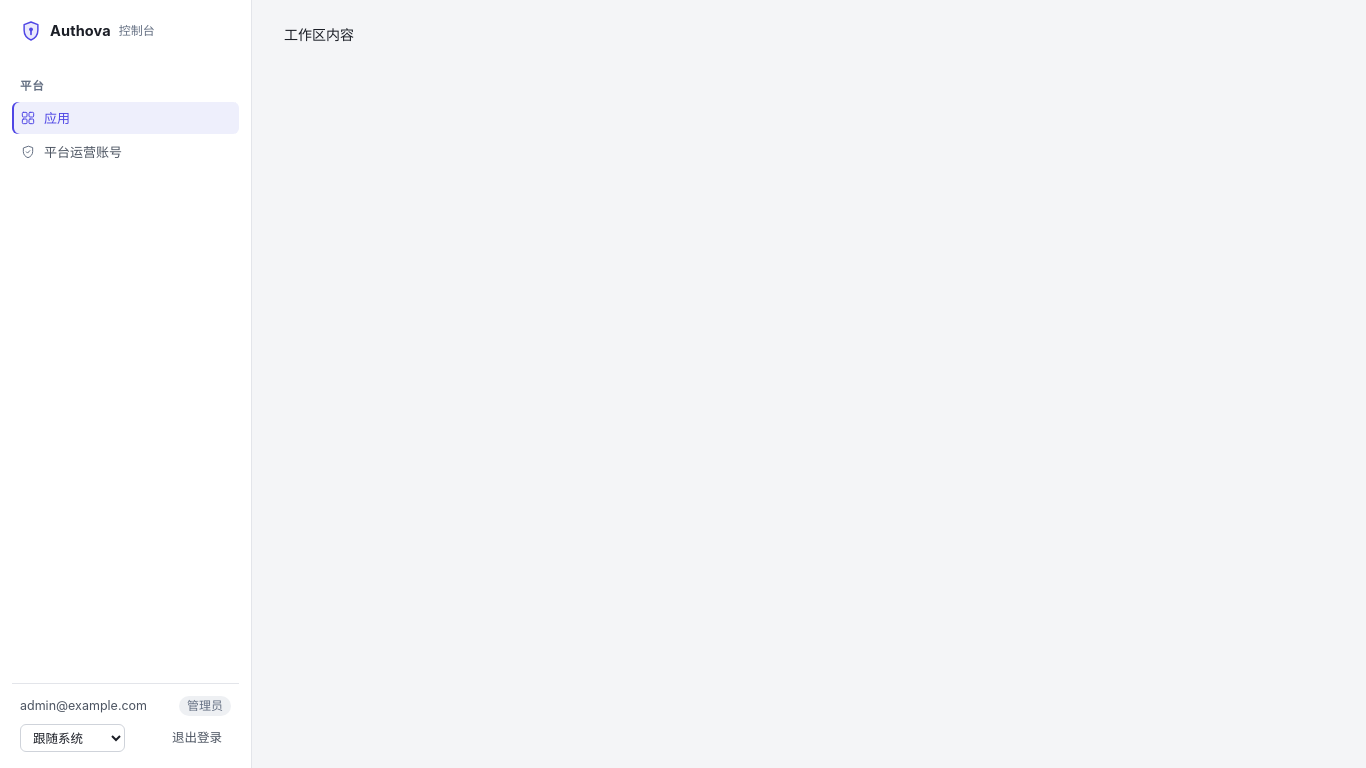
Test case: ConsoleShell 角色门控 › 退出登录失败：显式展示错误、保留当前页面，不吞错不跳转
Step 1. Click the button "退出登录" → {"x": 197, "y": 738}, box [163, 725, 231, 751]
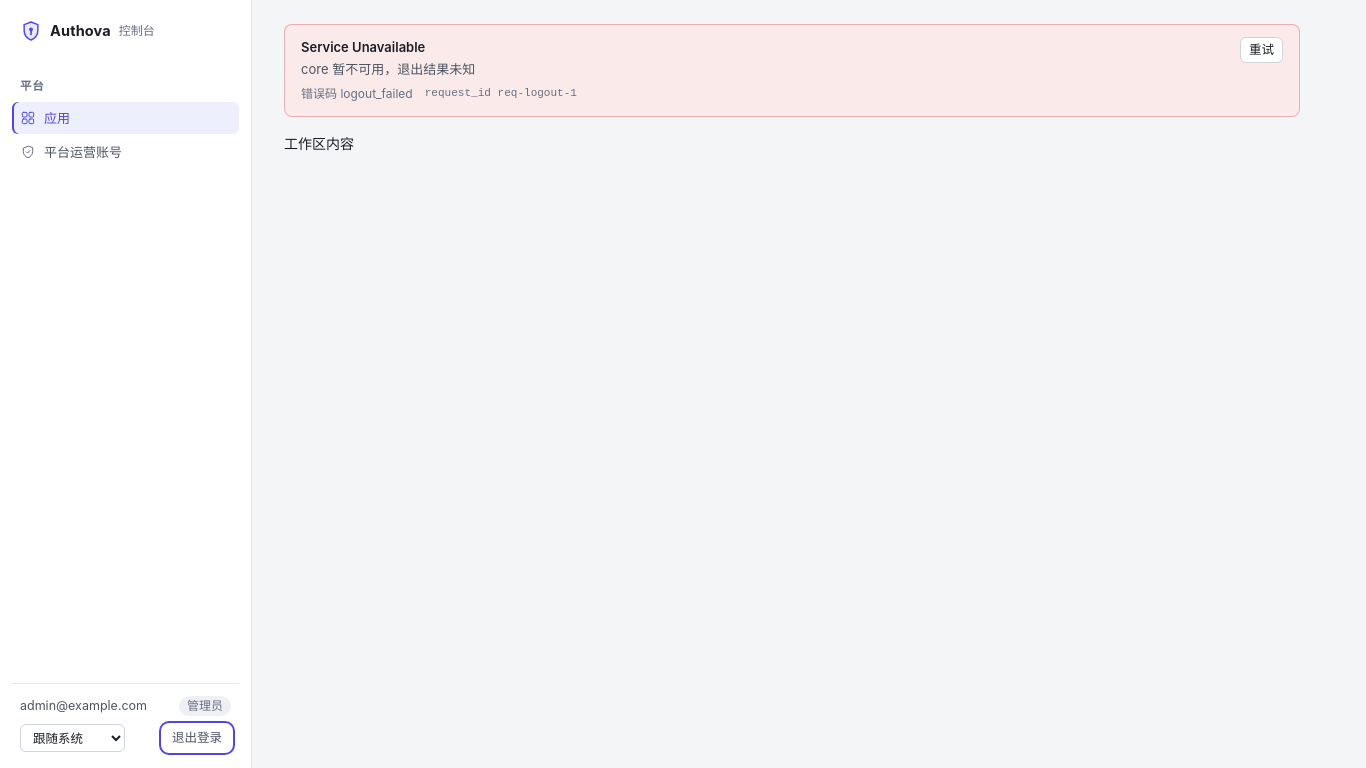
Expected: the text "工作区内容" is shown, [284, 135, 354, 152]
Result: the message shows "core 暂不可用，退出结果未知" at [301, 61, 475, 77]
Result: the message shows "req-logout-1" at [498, 87, 577, 99]
